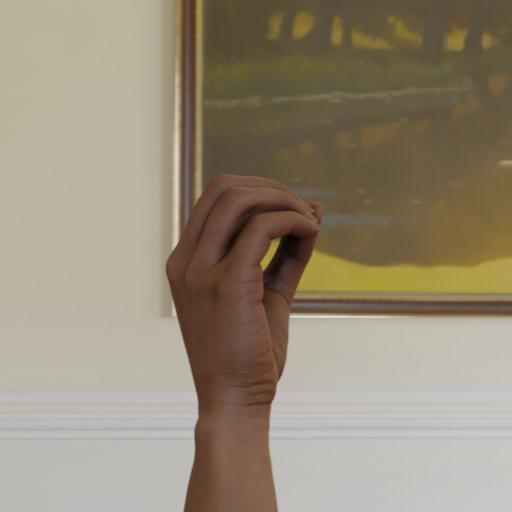O: (145, 140, 403, 428)
